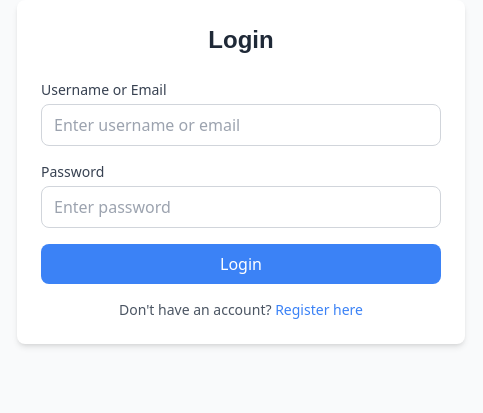
Test case: LoginForm › shows validation errors for empty fields
Click the button "Login".
click(241, 264)  # box [41,244,441,284]
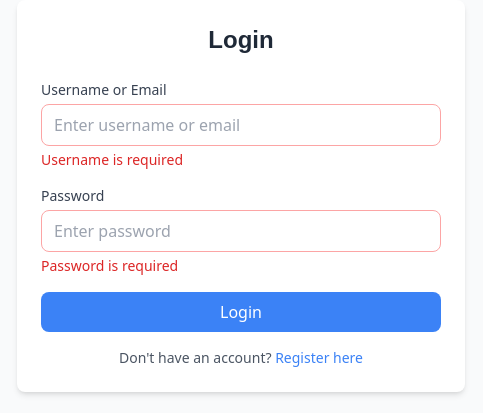
Check: the text "Username is required" is shown, box [41,150,183,169]
Check: the text "Password is required" is shown, box [41,256,178,275]
